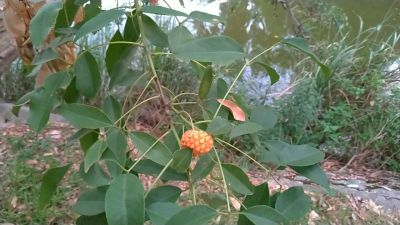eggs: (177, 124, 215, 156)
